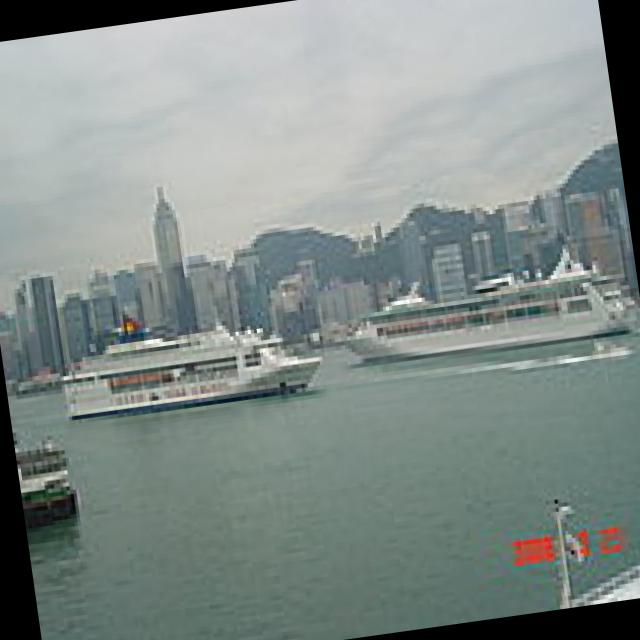boat: (340, 274, 640, 379), (56, 332, 330, 441)
